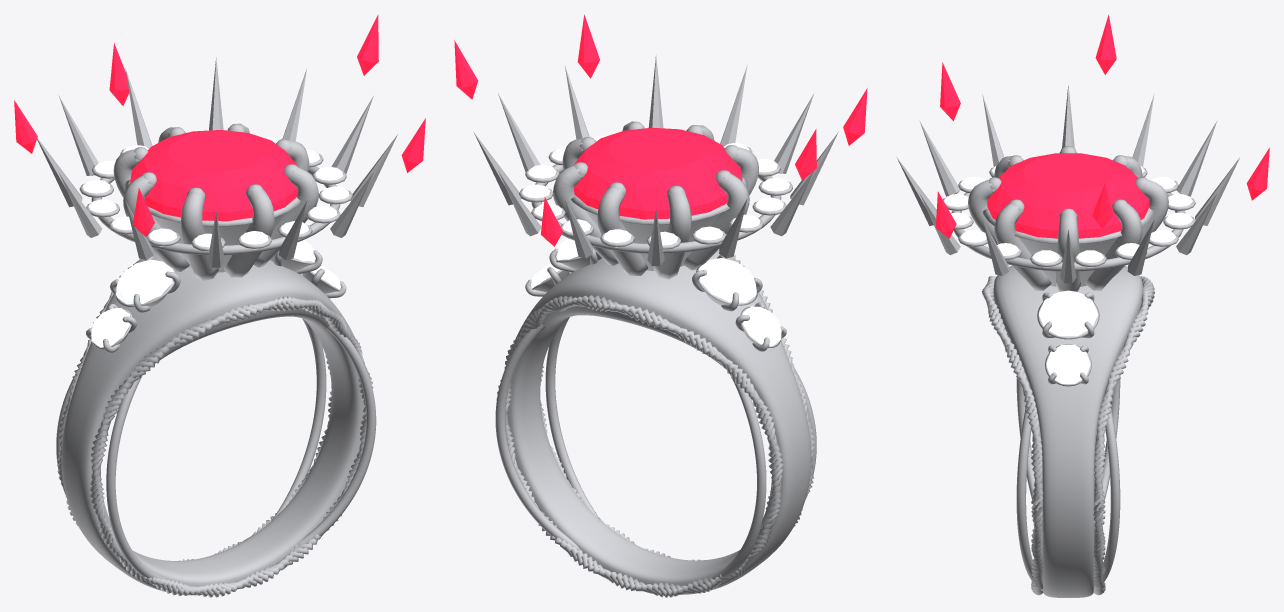
The model's file is jewel_ring_mythic.glb.
3 views of the same model, side by side, from view 1: azimuth 30°, elevation 25°; view 2: azimuth 150°, elevation 25°; view 3: azimuth 270°, elevation 25° (orthographic). The views are drawn at different scales.
Parts seen in each view (by area): view 1: jewel_ring_mythic; view 2: jewel_ring_mythic; view 3: jewel_ring_mythic.
Part boxes in pixels (box(x1,y1,x2,y2)): jewel_ring_mythic: box(14, 14, 425, 597); jewel_ring_mythic: box(454, 14, 867, 597); jewel_ring_mythic: box(896, 14, 1269, 597).
Size of the model in its own units: 2.9 by 3.92 by 2.74.
